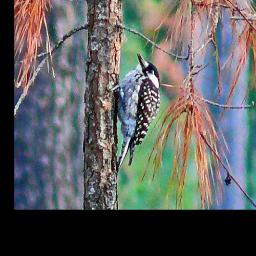Woodpecker: (99, 47, 169, 180)
